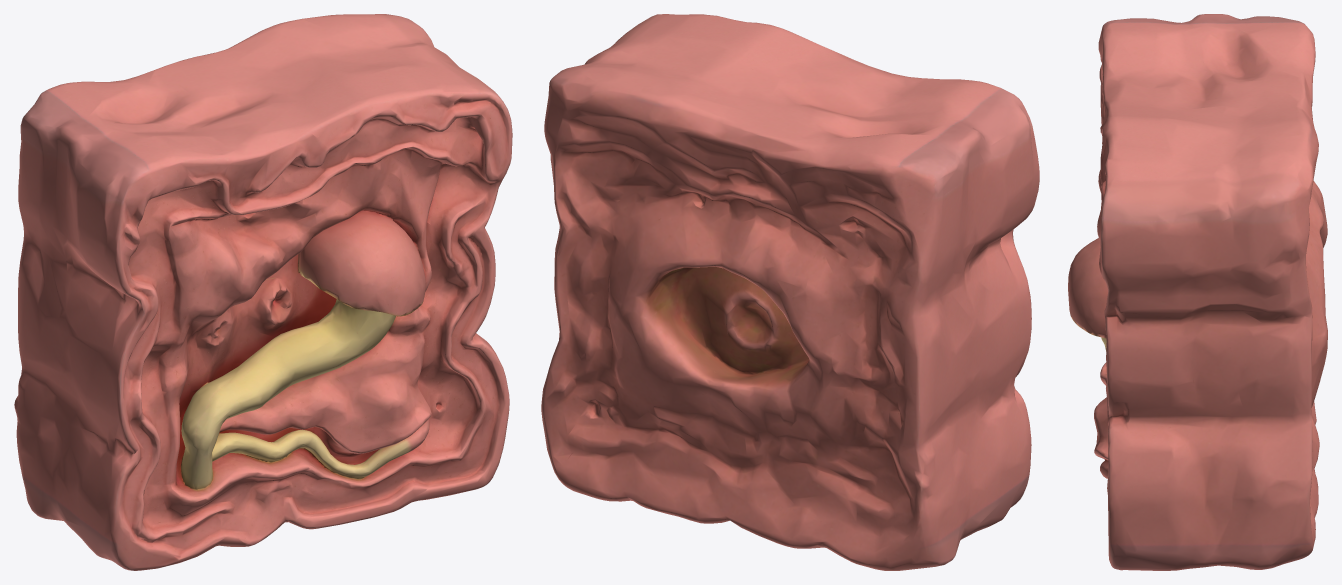
Rendered from Part_DuodenumJunction.glb.
3 renders of one model, left to right at view 1: azimuth 30°, elevation 25°; view 2: azimuth 150°, elevation 25°; view 3: azimuth 270°, elevation 25°, orthographic. The views are drawn at different scales.
Bounding box in the file's own units: 1.89 × 1.9 × 1.11.
Materials: 1 (1 with a texture image).
